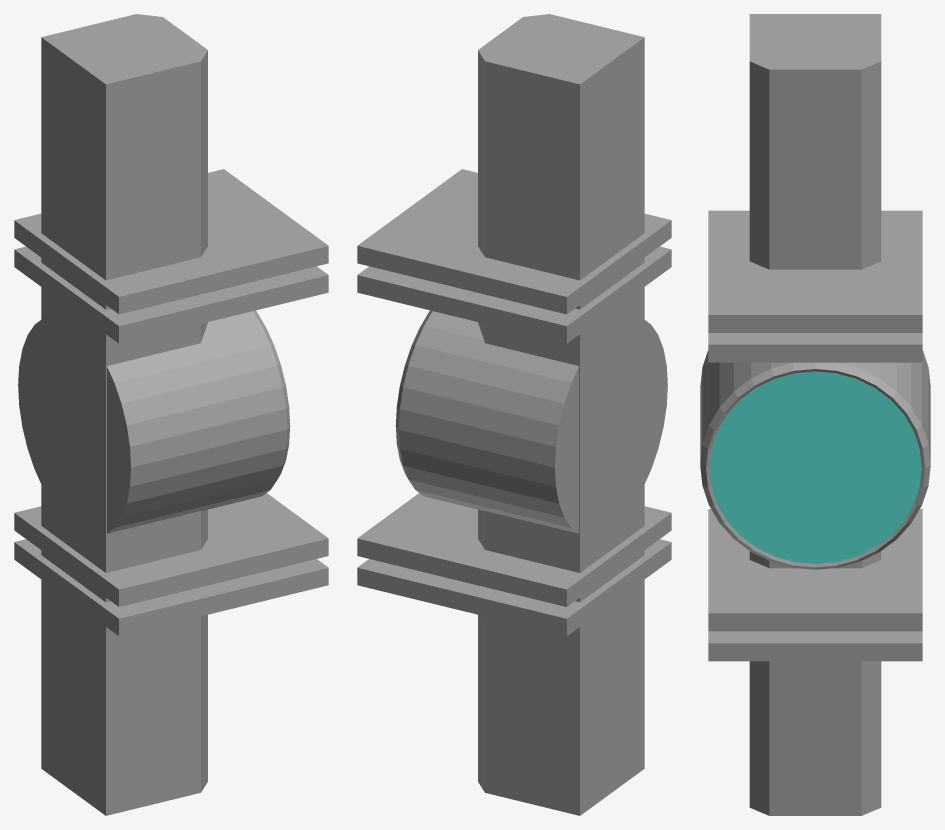
The model's file is Console2.fbx.
3 renders of one model, left to right at view 1: azimuth 30°, elevation 25°; view 2: azimuth 150°, elevation 25°; view 3: azimuth 270°, elevation 25°, orthographic. The views are drawn at different scales.
Parts seen in each view (by area): view 1: pCube28, pCylinder3, pCube31, pCube29, pCube30, pCube32; view 2: pCube28, pCylinder3, pCube31, pCube29, pCube30, pCube32; view 3: pCube28, pCylinder3, pCube31, pCube29, pCube32, pCube30.
Part boxes in pixels (left/top/right/bottom): pCube28: left=41, top=14, right=207, bottom=815; pCylinder3: left=18, top=310, right=290, bottom=533; pCube31: left=14, top=169, right=328, bottom=314; pCube29: left=14, top=493, right=328, bottom=606; pCube30: left=14, top=246, right=328, bottom=343; pCube32: left=14, top=539, right=328, bottom=636; pCube28: left=478, top=14, right=644, bottom=815; pCylinder3: left=395, top=310, right=667, bottom=533; pCube31: left=357, top=169, right=671, bottom=314; pCube29: left=357, top=493, right=671, bottom=606; pCube30: left=357, top=246, right=671, bottom=343; pCube32: left=357, top=539, right=671, bottom=636; pCube28: left=749, top=14, right=881, bottom=815; pCylinder3: left=700, top=350, right=930, bottom=569; pCube31: left=708, top=210, right=922, bottom=332; pCube29: left=708, top=509, right=922, bottom=631; pCube32: left=708, top=631, right=922, bottom=661; pCube30: left=708, top=333, right=922, bottom=362.
Bounding box in the file's own units: 150 × 500 × 140.
